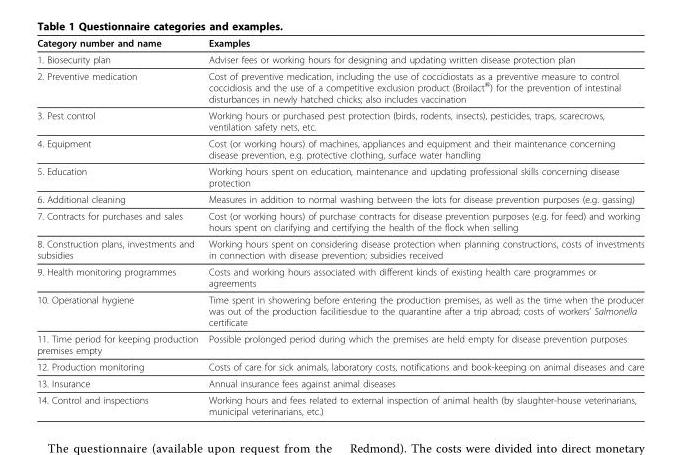table: (36, 36, 643, 416)
table column: (202, 36, 643, 416), (36, 36, 202, 416)
table column header: (36, 36, 643, 50)
table row: (36, 67, 643, 106), (36, 291, 643, 330), (36, 106, 643, 134), (36, 134, 643, 162), (36, 162, 643, 190), (36, 207, 643, 235), (36, 235, 643, 263), (36, 263, 643, 291), (36, 330, 643, 358), (36, 391, 643, 416), (36, 50, 643, 67), (36, 190, 643, 207), (36, 374, 643, 391), (36, 358, 643, 374), (36, 36, 643, 50)
